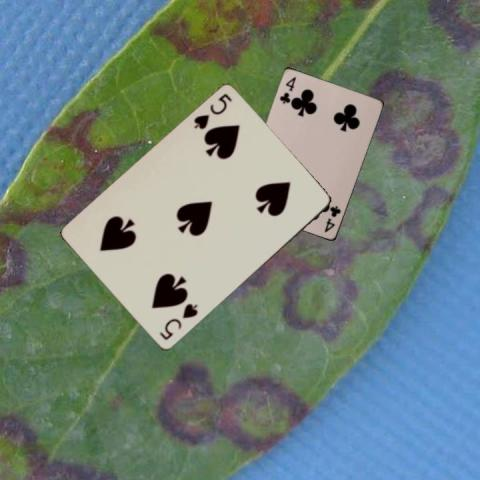4c: (321, 202, 342, 233), (277, 74, 297, 106)
5s: (157, 301, 199, 342), (190, 91, 233, 131)
